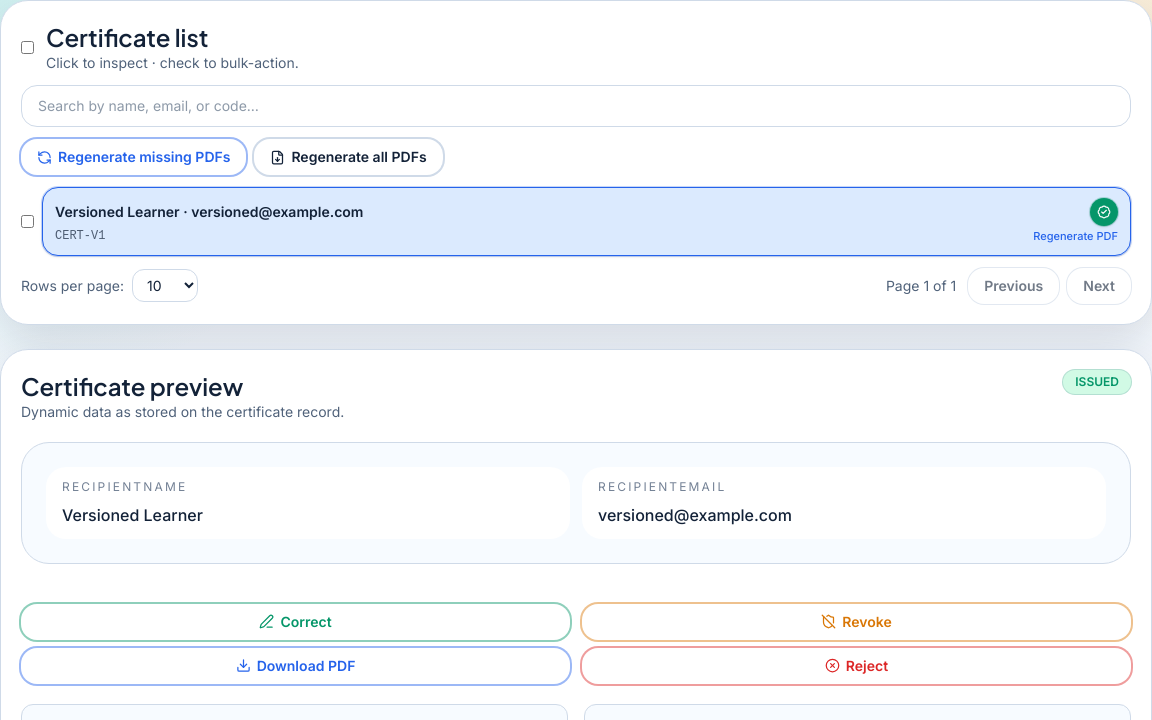
Test: batch certificate versioning actions › offers reject and revoke for an issued certificate and explains versioned rejection
The image size is (1152, 720).
Expected: the button "Revoke" is enabled, [582,604,1131,640]
Click the button "Reject".
click(856, 666)  # box [582,648,1131,684]
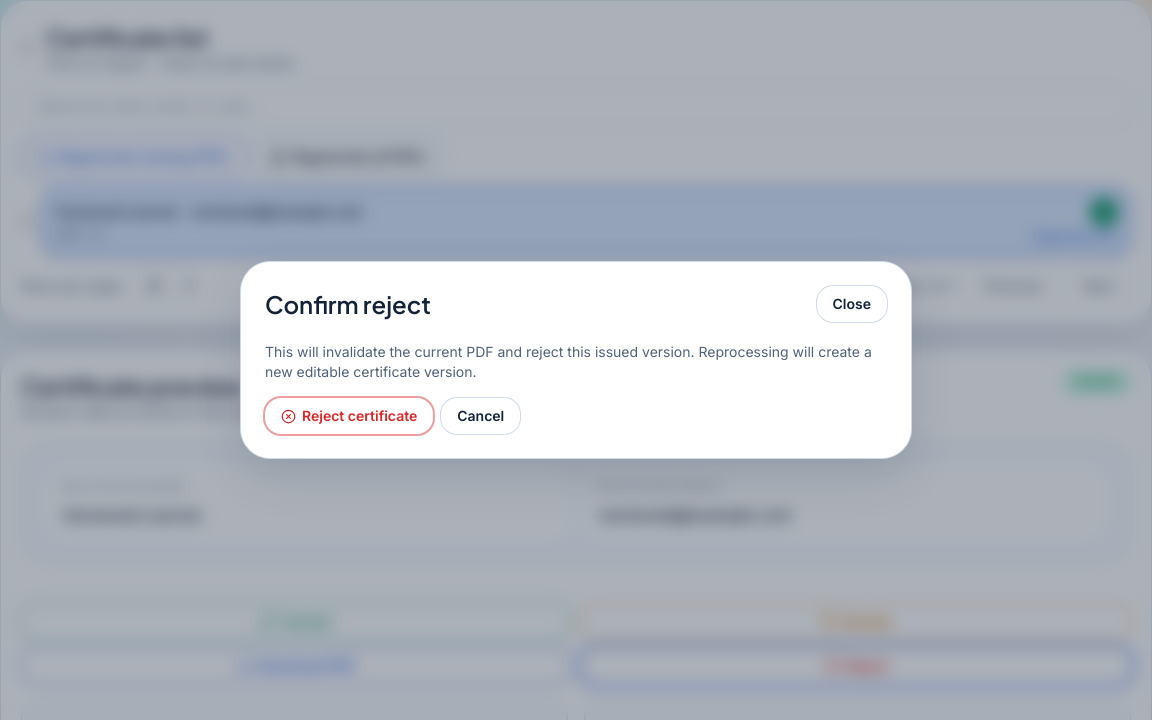
Expected: the text "This will invalidate the current PDF and reject this issued version. Reprocessing will create a new editable certificate" is shown, [265,343,872,380]
